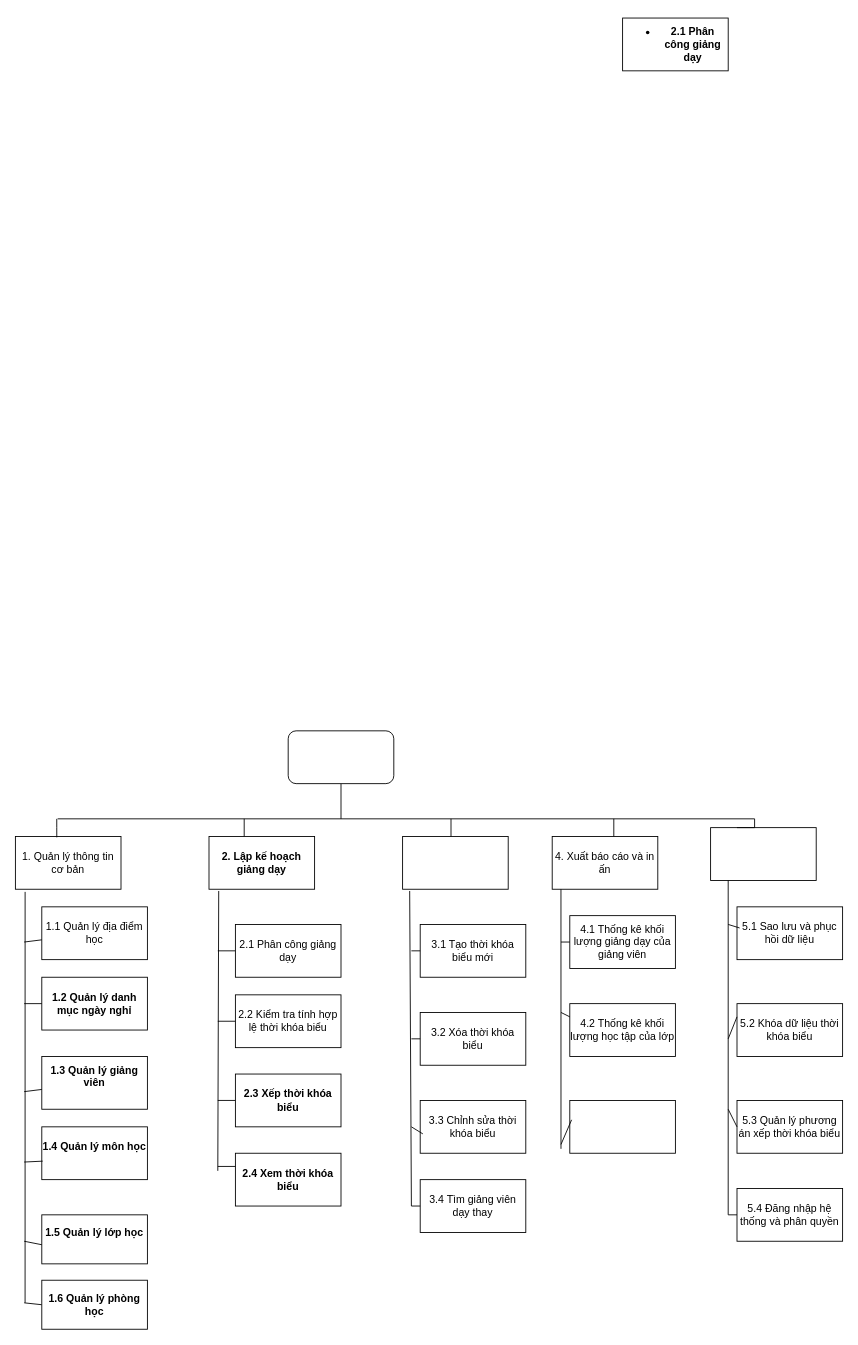
Image size: 858x1345. Some labels were removed from this diagram. The shapes that lost their labels are listed below. From the top down, each one's centre as x and y in pixels, then its label:
At (340,757): "Hệ thống quản lý thời khóa biểu".
At (455,862): "3. Quản lý thời khóa biểu".
At (763,853): "5. Quản lý hệ thống".
At (622,1126): "4.3 Xuất dữ liệu".
